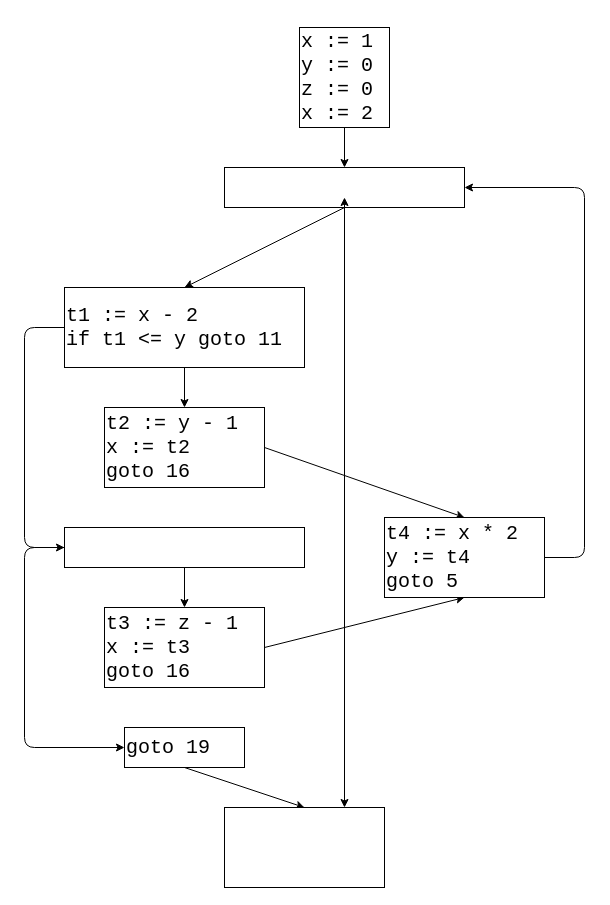
The diagram is 610 pixels wide and 905 high, and some of its shapes have lost their labels. The box of each missing label's shape, as (x1, y1, x2, y2) in pixels:
if x <= y goto 15: (64, 526, 304, 568)
if y <= z goto 19: (224, 166, 464, 208)
t5 := y + z x := t5: (224, 806, 384, 888)
